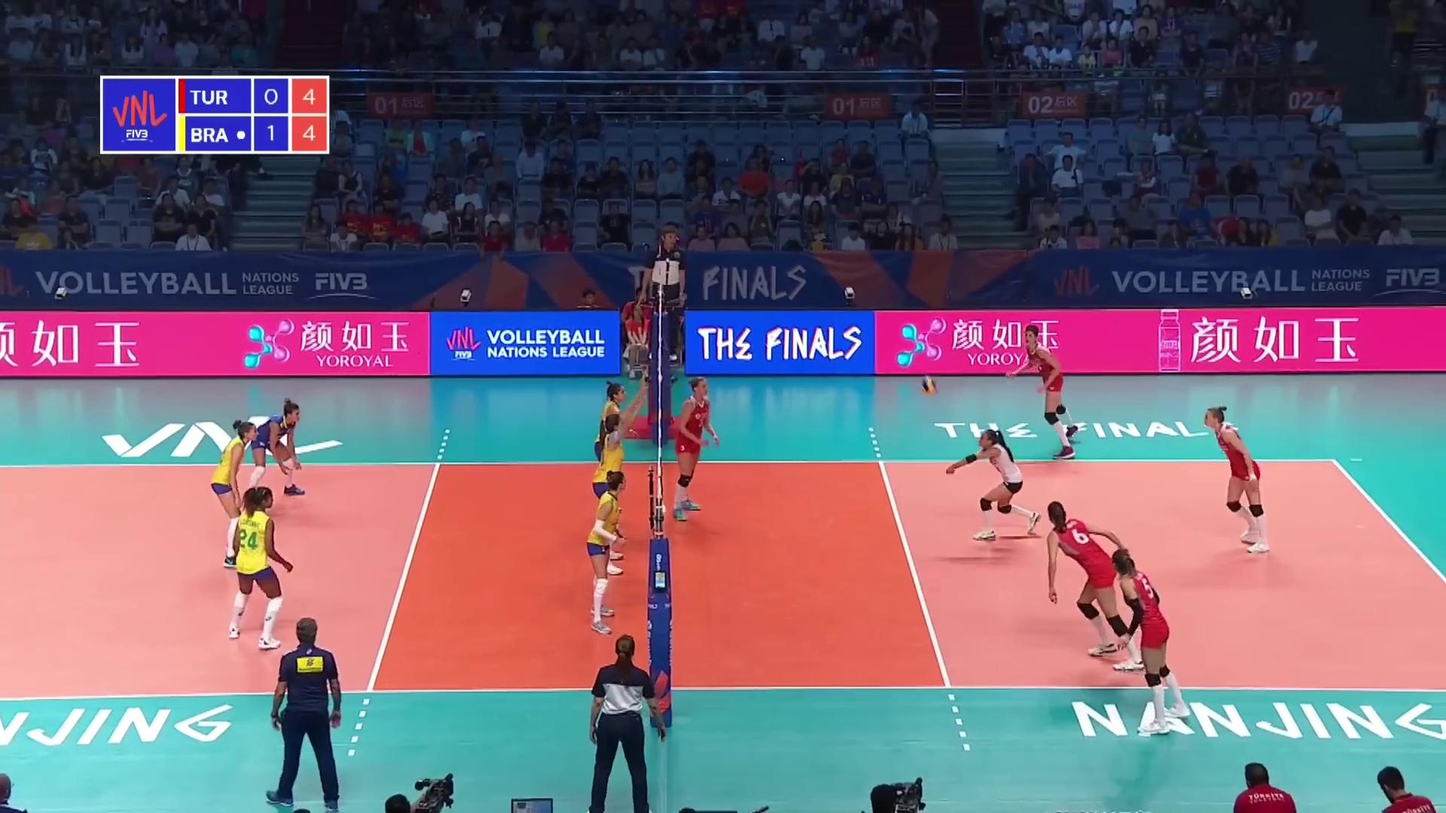player: (1046, 502, 1147, 657), (1111, 550, 1190, 733), (952, 429, 1038, 544), (1204, 407, 1270, 556), (226, 487, 287, 646), (208, 416, 260, 573), (1016, 326, 1078, 456), (673, 376, 725, 524), (581, 472, 627, 637), (241, 403, 310, 505), (593, 412, 631, 576), (594, 378, 632, 534)
refree: (585, 636, 662, 811), (645, 227, 685, 357)
